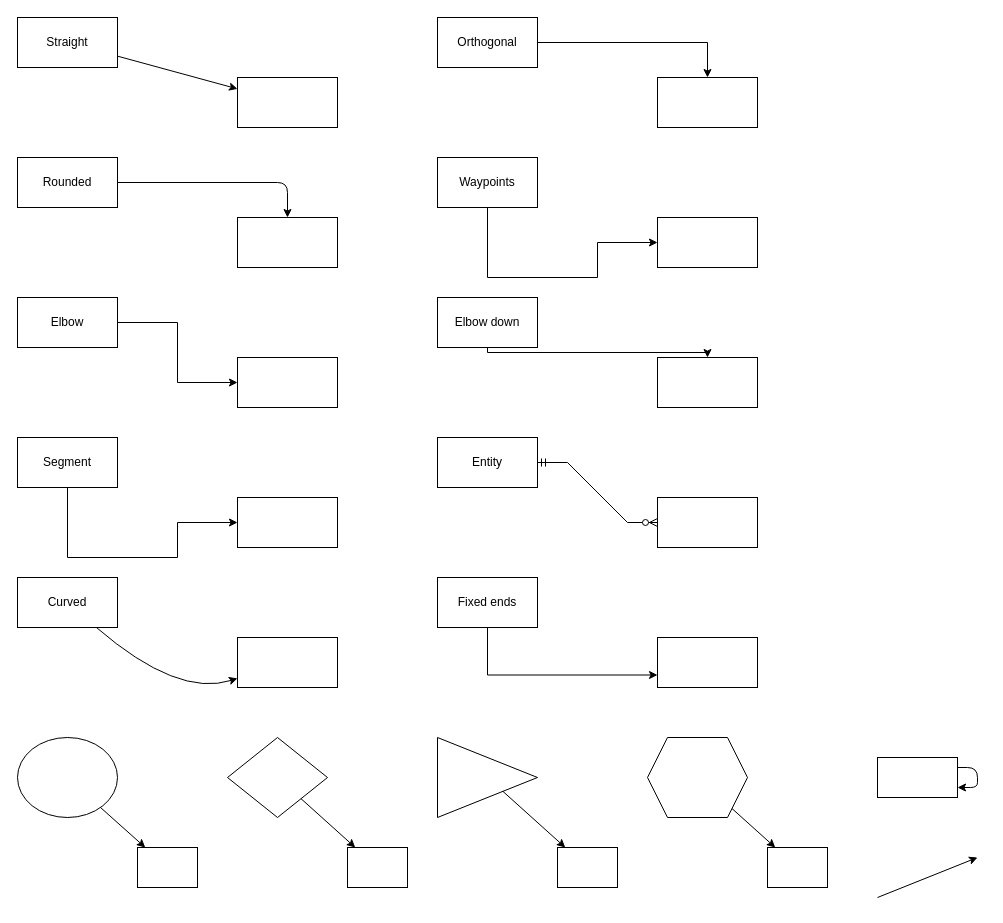
The diagram is 1003 pixels wide and 923 high, and some of its shapes have lost their labels. The centre of each missing label's shape, as x and y in pixels:
Ellipse: point (67, 777)
Hexagon: point (697, 777)
Loop: point (917, 777)
Rhombus: point (277, 777)
Triangle: point (487, 777)
